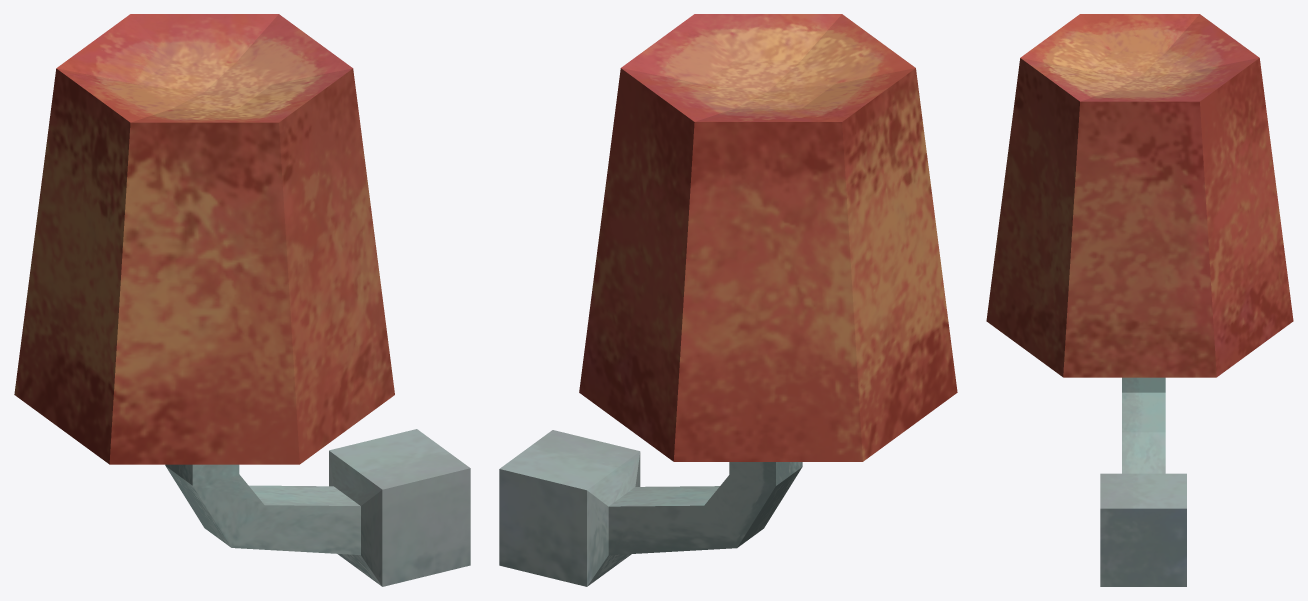
Rendered from lamp.fbx.
The picture shows the model from 3 angles, left to right: view 1: azimuth 30°, elevation 25°; view 2: azimuth 150°, elevation 25°; view 3: azimuth 270°, elevation 25°; orthographic projection. The views are drawn at different scales.
Parts seen in each view (by area): view 1: дмапа верх, лмпаниз; view 2: дмапа верх, лмпаниз; view 3: дмапа верх, лмпаниз.
Boxes of the visible parts, x1,y1,x2,y2 form: дмапа верх: (14, 14, 394, 464); лмпаниз: (165, 429, 470, 586); дмапа верх: (579, 14, 957, 461); лмпаниз: (499, 430, 802, 586); дмапа верх: (986, 14, 1293, 377); лмпаниз: (1100, 377, 1186, 586).
Bounding box in the file's own units: 21.33 × 28.56 × 18.31.
